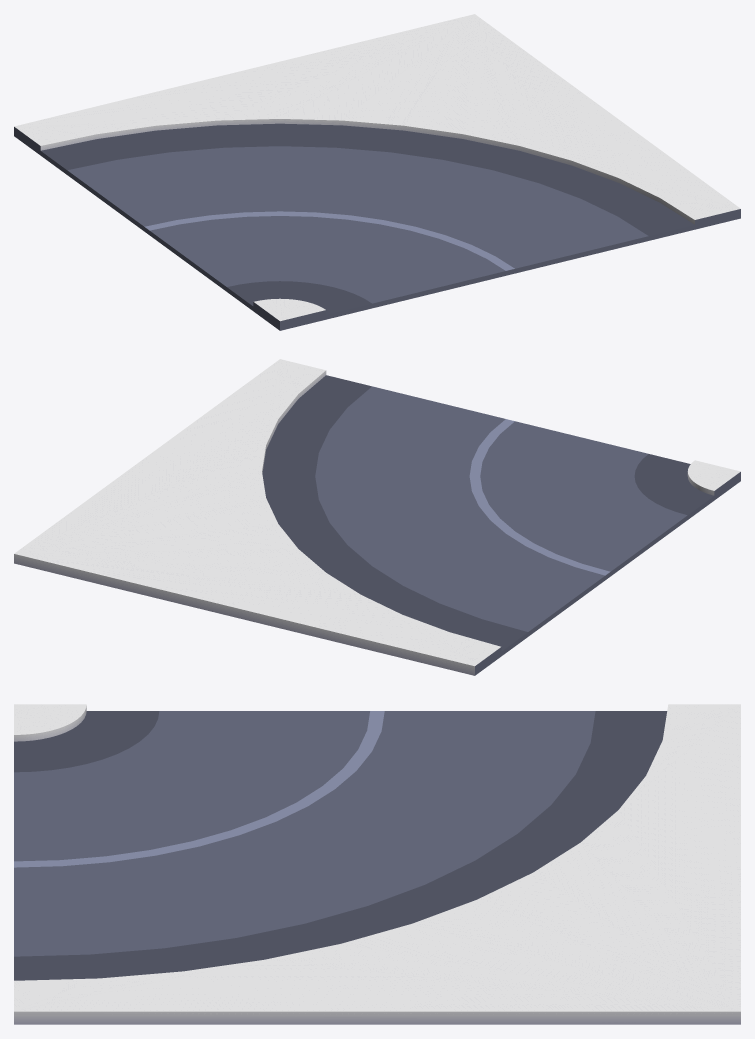
The model's file is road_bend_pavement.glb.
3 views of the same model, one above another, from view 1: azimuth 30°, elevation 25°; view 2: azimuth 150°, elevation 25°; view 3: azimuth 270°, elevation 25° (orthographic). The views are drawn at different scales.
Parts seen in each view (by area): view 1: road-bend-sidewalk; view 2: road-bend-sidewalk; view 3: road-bend-sidewalk.
Part boxes in pixels (<box>): road-bend-sidewalk: <box>14,14,740,330</box>; road-bend-sidewalk: <box>14,359,740,675</box>; road-bend-sidewalk: <box>14,704,740,1024</box>.
Bounding box in the file's own units: 15 × 0.3 × 15.
1 material, 1 textured.
